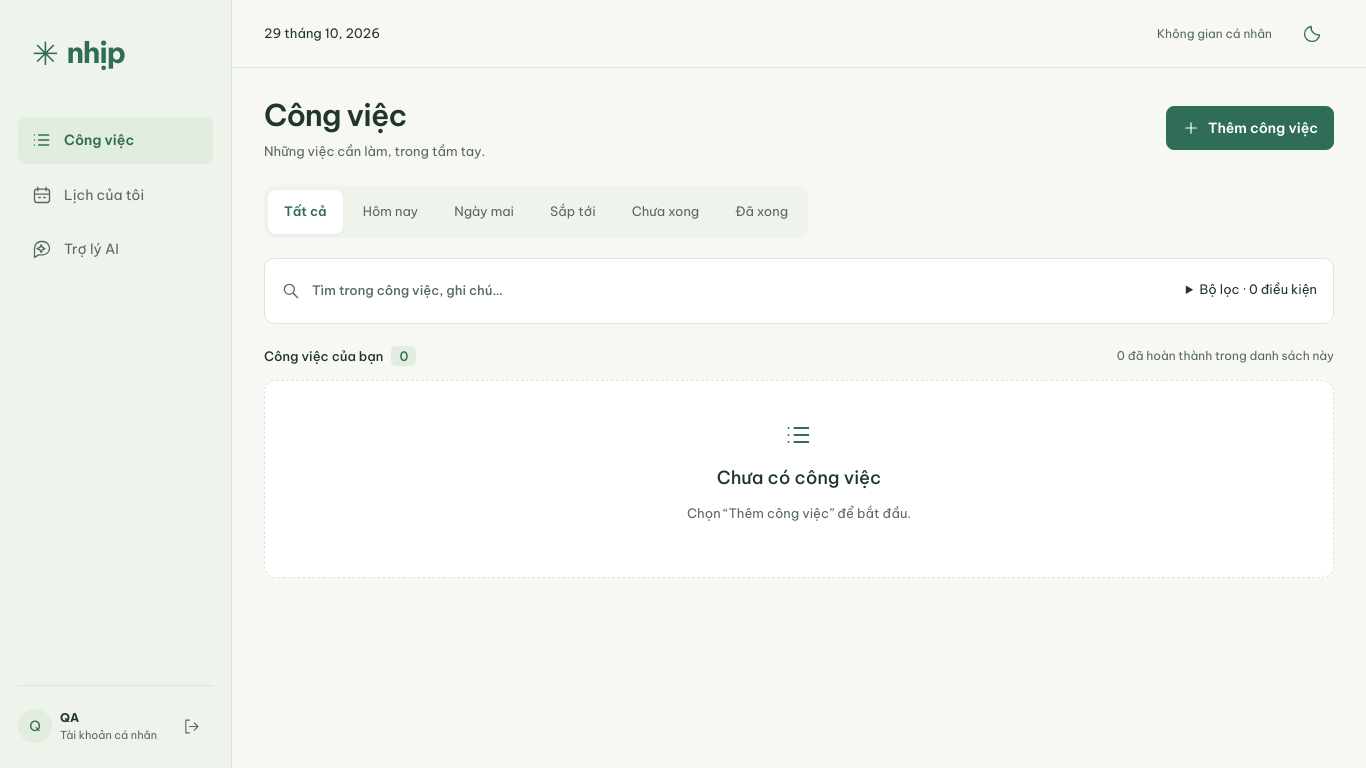
Scenario: chat draft, filters and current page survive theme switching without new requests
Step 1. Type "React" into the field named "Tìm công việc" → (738,291), box [311,269,1166,313]
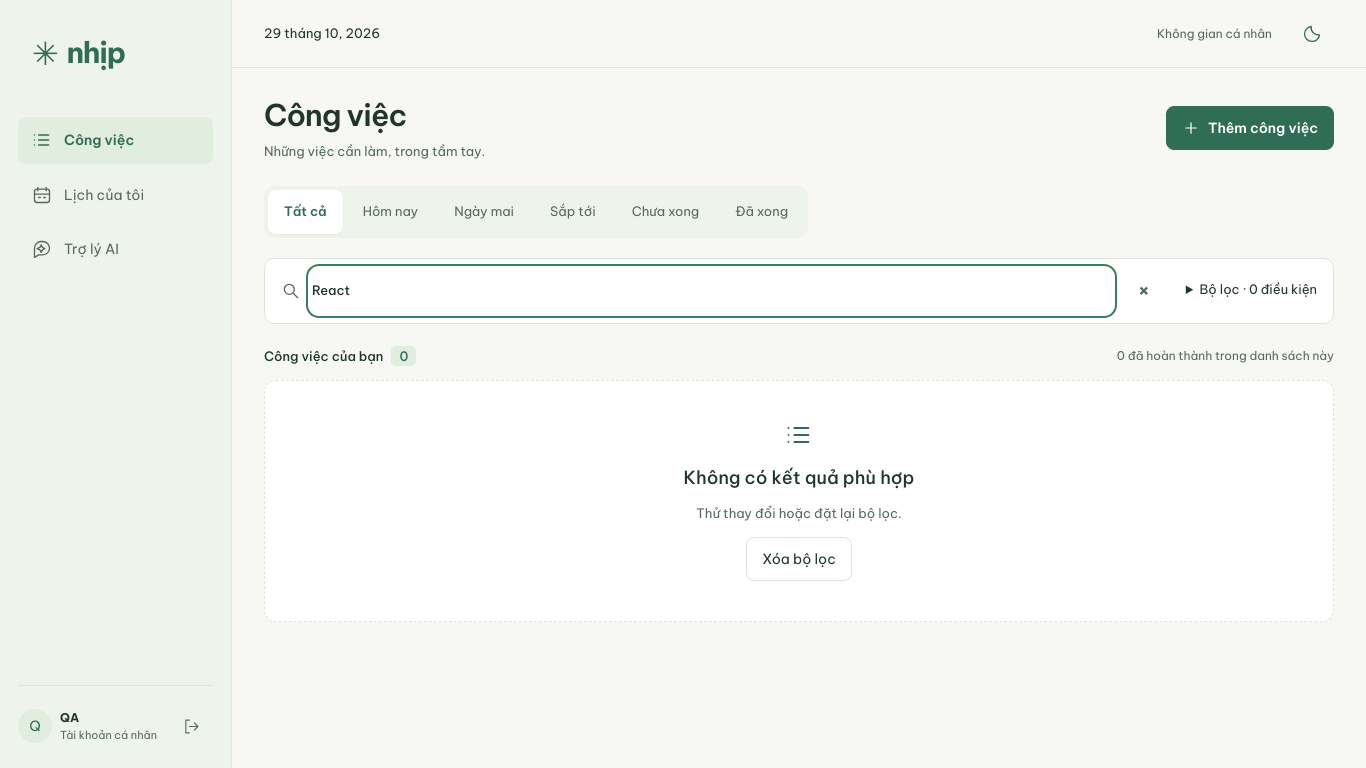
Step 2. Click the button "Trợ lý AI" → (116,249), box [18,226,213,272]
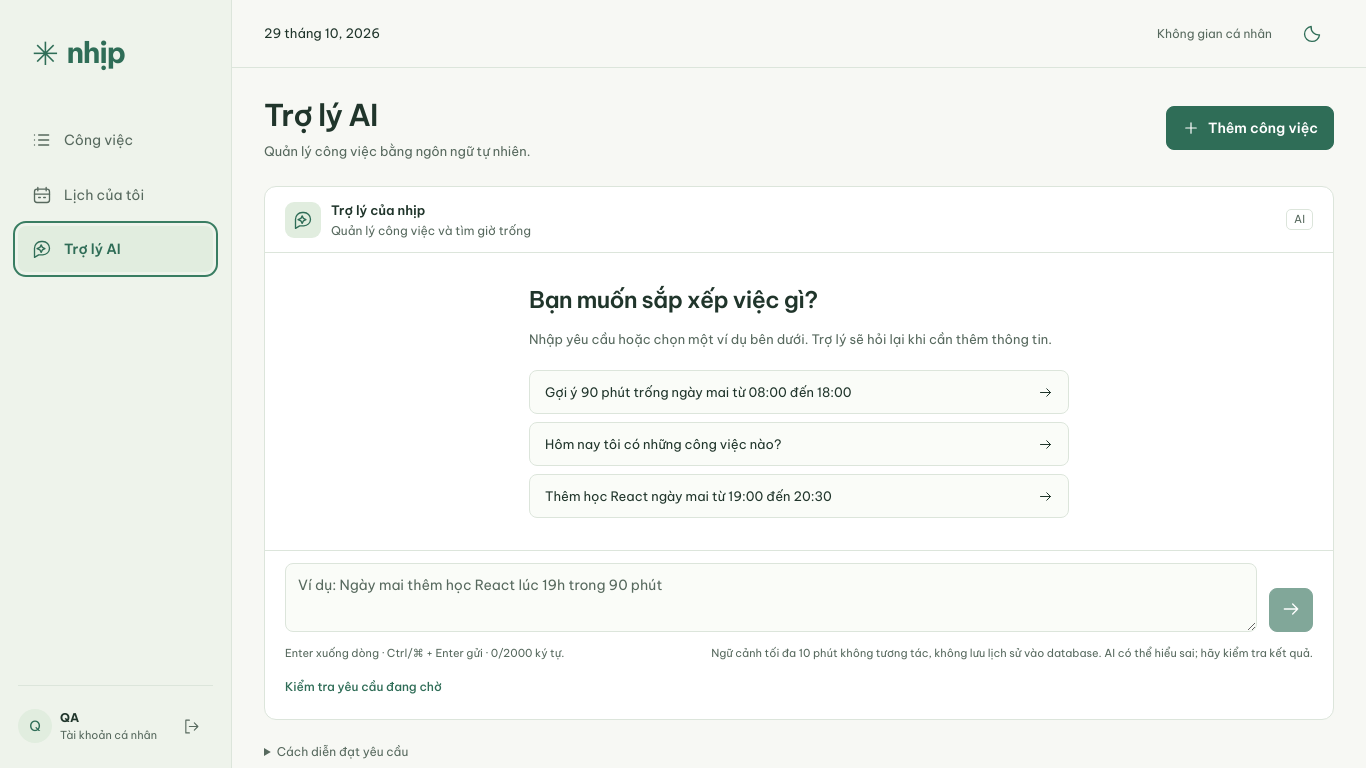
Expected: the text box named "Nội dung yêu cầu" is enabled
Step 3. Type "Ngày mai học bài" into the text box named "Nội dung yêu cầu" → (771,597), box [285,562,1257,632]
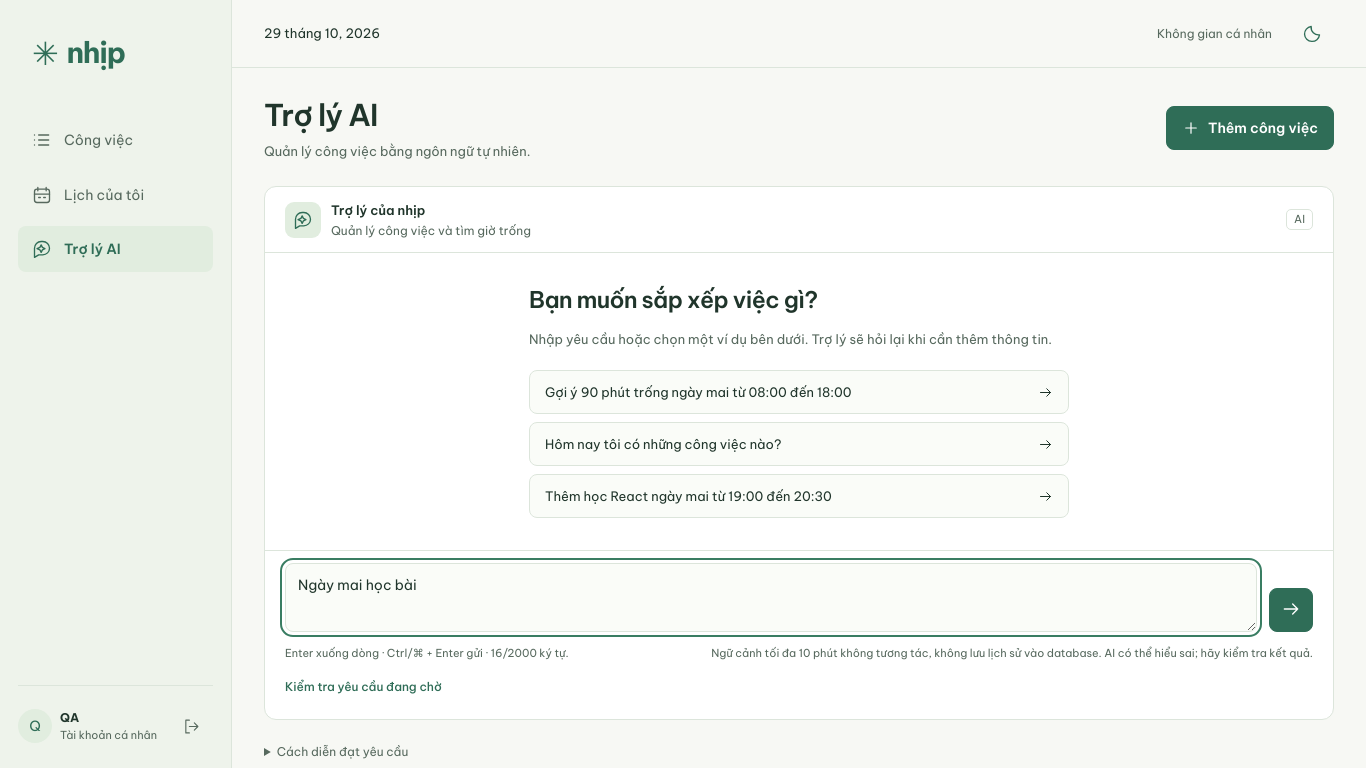
Step 4. Click the button named "Chế độ tối" → (1312,34), box [1290,12,1334,56]
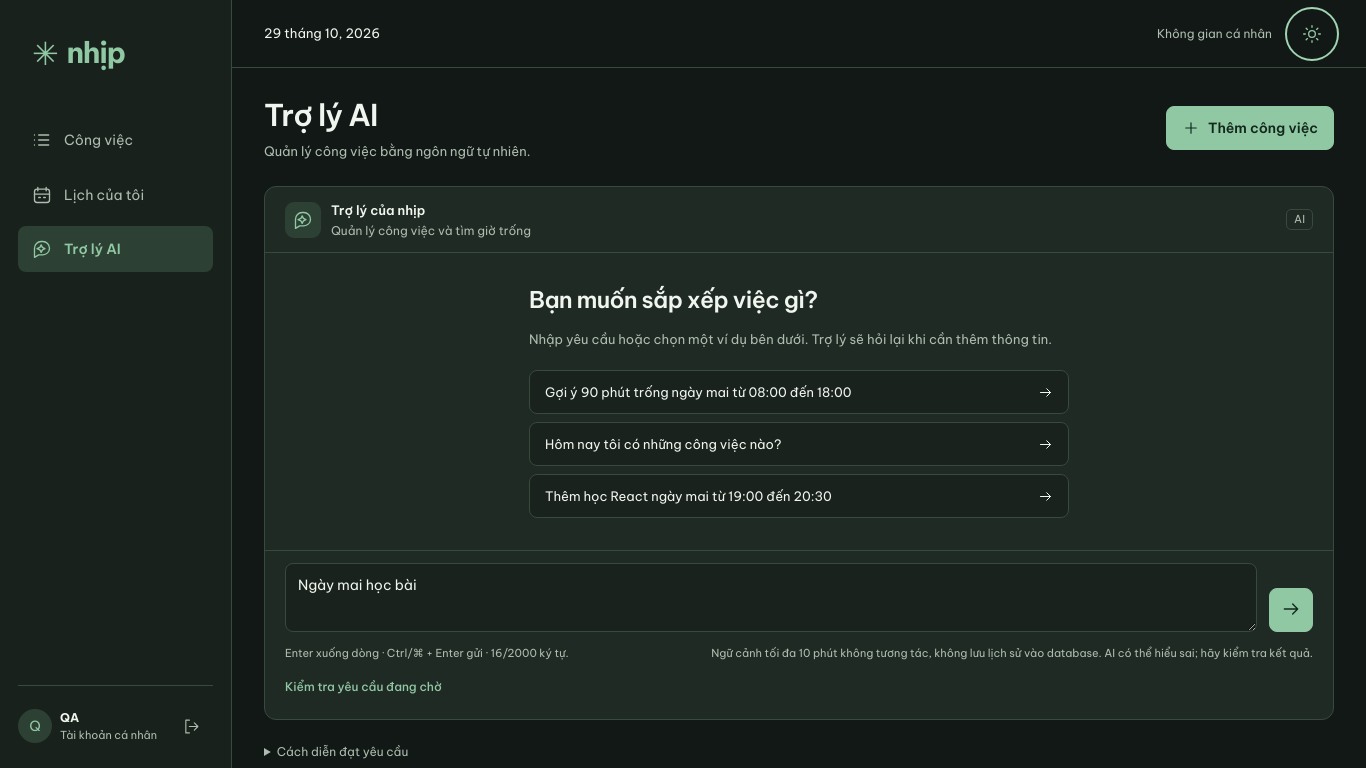
Step 5. Click the button "Công việc" → (116,140), box [18,117,213,164]
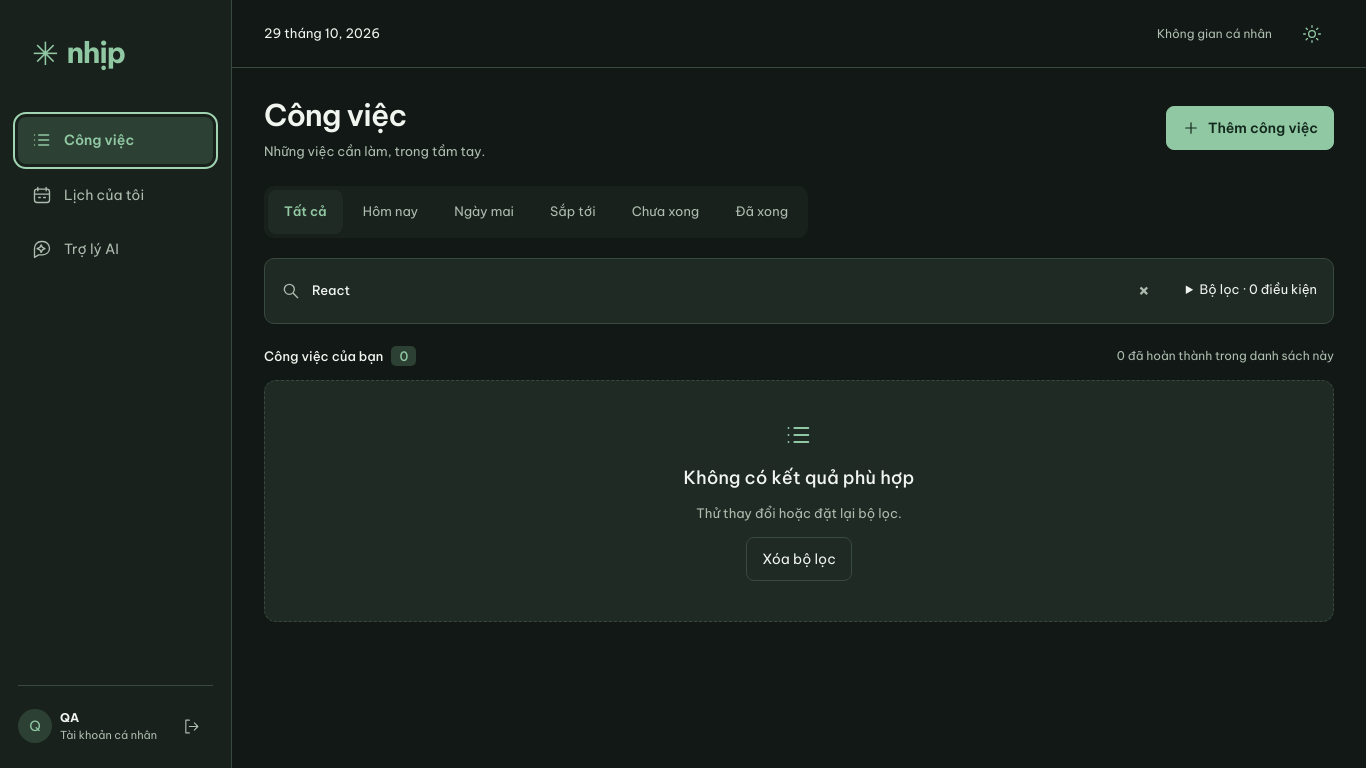
Expected: the field named "Tìm công việc" holds "React", [311,269,1112,313]
